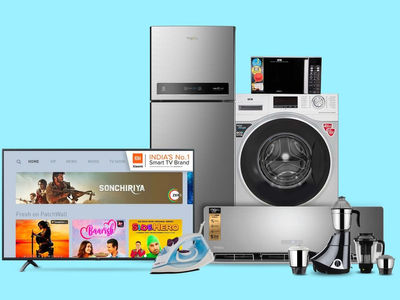AC: (216, 209, 288, 262)
Refrigerator: (151, 26, 234, 149)
